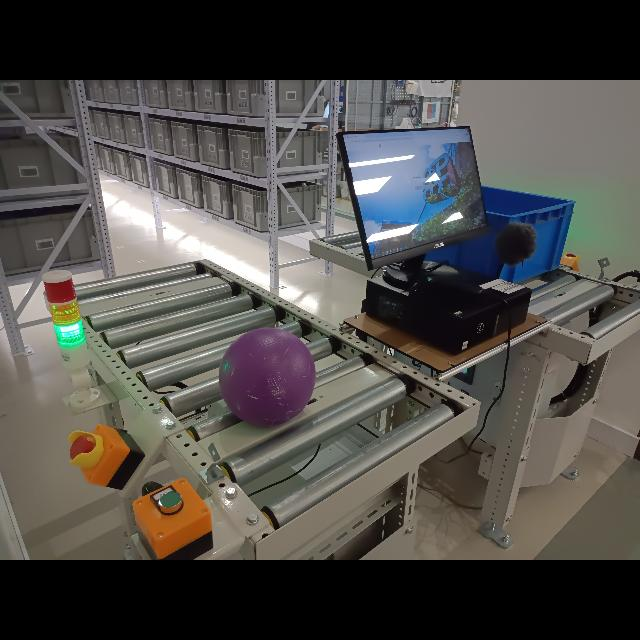P: (218, 328, 316, 427)
